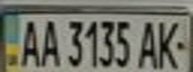1: (81, 16, 100, 68)
3: (97, 17, 118, 69), (63, 17, 84, 68)
5: (115, 17, 136, 69)
A: (15, 16, 42, 69), (136, 17, 163, 70), (36, 16, 60, 68)
K: (151, 17, 184, 71)
